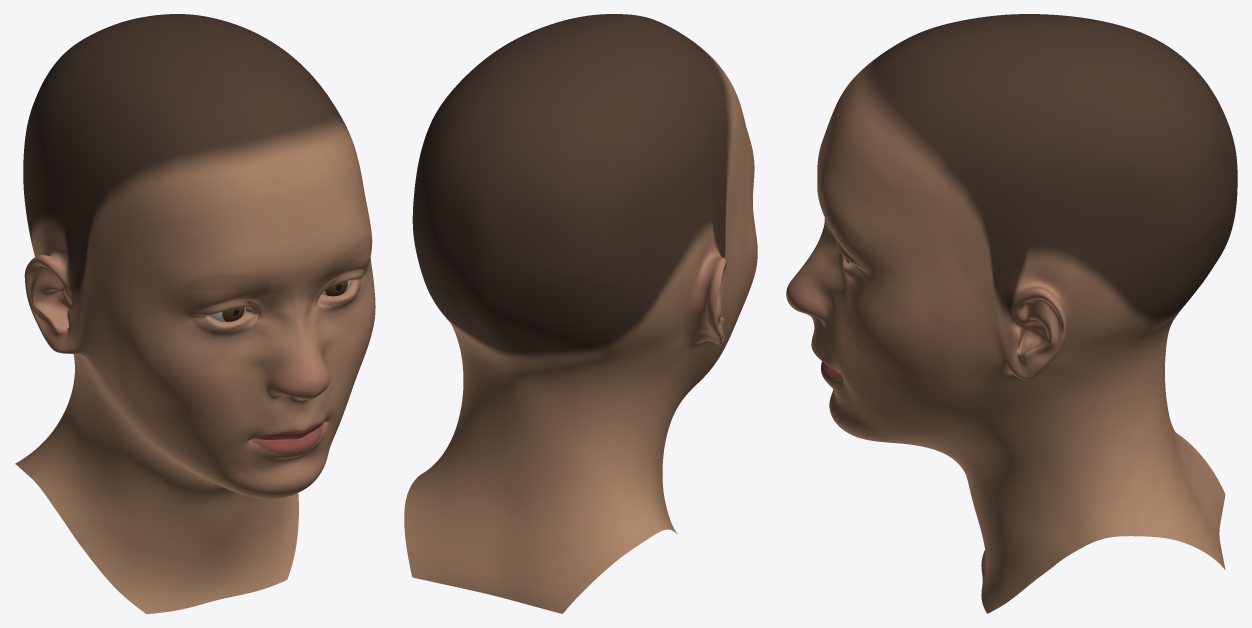
File: baseline_head.glb
3 renders of one model, left to right at view 1: azimuth 30°, elevation 25°; view 2: azimuth 150°, elevation 25°; view 3: azimuth 270°, elevation 25°, orthographic. The views are drawn at different scales.
Visible parts, largest first — view 1: head; view 2: head; view 3: head.
Part boxes in pixels (box(x1,y1,x2,y2)): head: box(15, 14, 375, 613); head: box(404, 14, 757, 613); head: box(786, 14, 1237, 613).
Bounding box in the file's own units: 0.1638 × 0.2728 × 0.2029.
